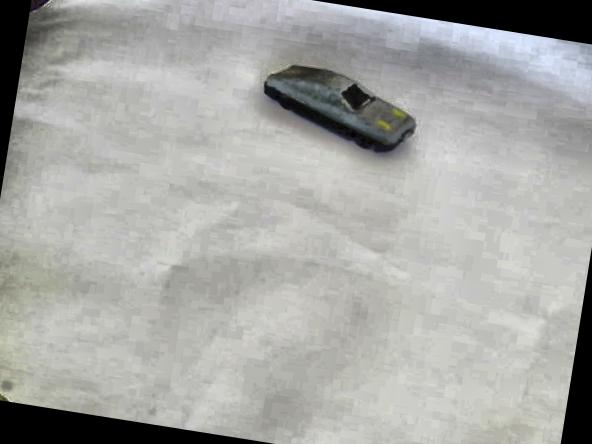normal_car: (244, 50, 424, 166)
